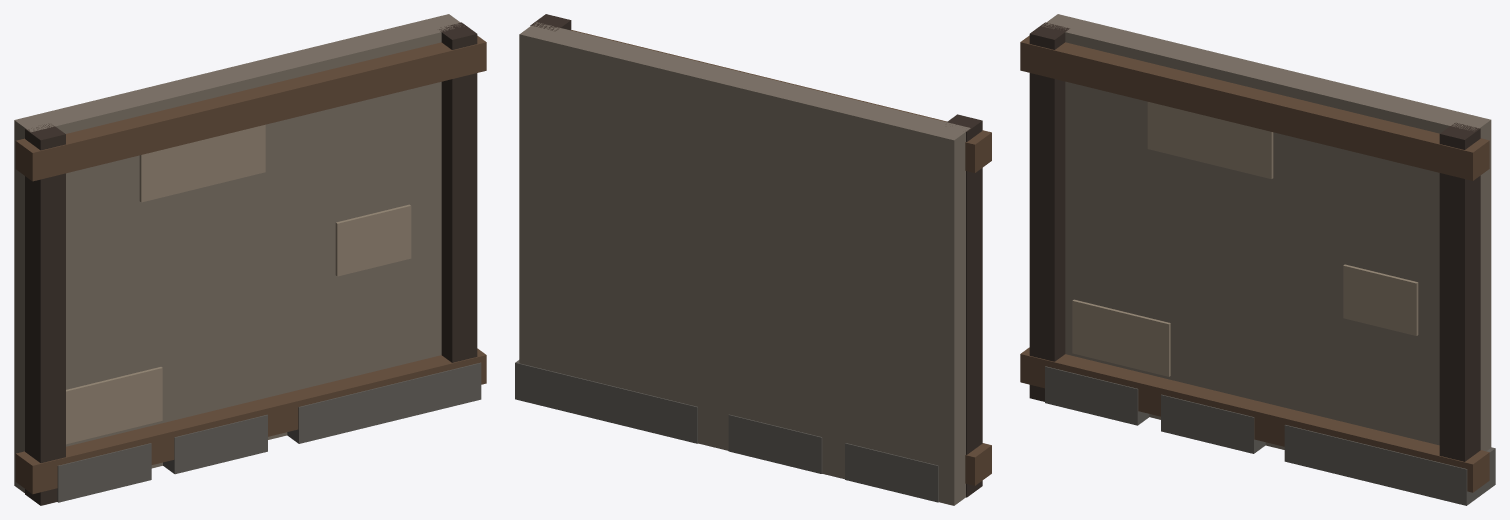
Rendered from wall.glb.
The picture shows the model from 3 angles, left to right: view 1: azimuth 30°, elevation 25°; view 2: azimuth 150°, elevation 25°; view 3: azimuth 330°, elevation 25°; orthographic projection.
Parts seen in each view (by area): view 1: plaster panel, cross timber.001, upright timber, upright timber.001, cross timber, weathered plaster repair.002, weathered plaster repair, weathered plaster repair.001, foundation stones.002, foundation stones.001, foundation stones, foundation stones.003; view 2: plaster panel, upright timber, foundation stones.001, foundation stones, foundation stones.002, foundation stones.003, cross timber.001, cross timber; view 3: plaster panel, cross timber.001, upright timber.001, upright timber, cross timber, weathered plaster repair.002, weathered plaster repair, weathered plaster repair.001, foundation stones.003, foundation stones.001, foundation stones, foundation stones.002.
Boxes of the visible parts, bbox=[...] form: plaster panel: bbox=[14, 14, 464, 492]; cross timber.001: bbox=[15, 35, 486, 181]; upright timber: bbox=[25, 123, 65, 505]; upright timber.001: bbox=[439, 22, 477, 362]; cross timber: bbox=[15, 348, 486, 494]; weathered plaster repair.002: bbox=[139, 124, 265, 202]; weathered plaster repair: bbox=[66, 367, 162, 444]; weathered plaster repair.001: bbox=[335, 204, 411, 276]; foundation stones.002: bbox=[287, 384, 392, 443]; foundation stones.001: bbox=[163, 414, 267, 474]; foundation stones: bbox=[57, 443, 151, 502]; foundation stones.003: bbox=[388, 362, 481, 421]; plaster panel: bbox=[519, 22, 970, 505]; upright timber: bbox=[947, 114, 982, 497]; foundation stones.001: bbox=[728, 414, 822, 473]; foundation stones: bbox=[845, 443, 938, 502]; foundation stones.002: bbox=[604, 385, 697, 443]; foundation stones.003: bbox=[515, 360, 608, 421]; cross timber.001: bbox=[571, 30, 991, 172]; cross timber: bbox=[965, 443, 991, 485]; plaster panel: bbox=[1042, 14, 1491, 451]; cross timber.001: bbox=[1020, 35, 1489, 180]; upright timber.001: bbox=[1439, 122, 1480, 461]; upright timber: bbox=[1029, 22, 1069, 401]; cross timber: bbox=[1020, 347, 1489, 492]; weathered plaster repair.002: bbox=[1147, 102, 1273, 179]; weathered plaster repair: bbox=[1072, 299, 1170, 376]; weathered plaster repair.001: bbox=[1343, 264, 1418, 335]; foundation stones.003: bbox=[1373, 447, 1495, 505]; foundation stones.001: bbox=[1161, 394, 1265, 453]; foundation stones: bbox=[1045, 366, 1149, 425]; foundation stones.002: bbox=[1284, 425, 1377, 483].
Size of the model in its own units: 1.17 by 0.9 by 0.13.
